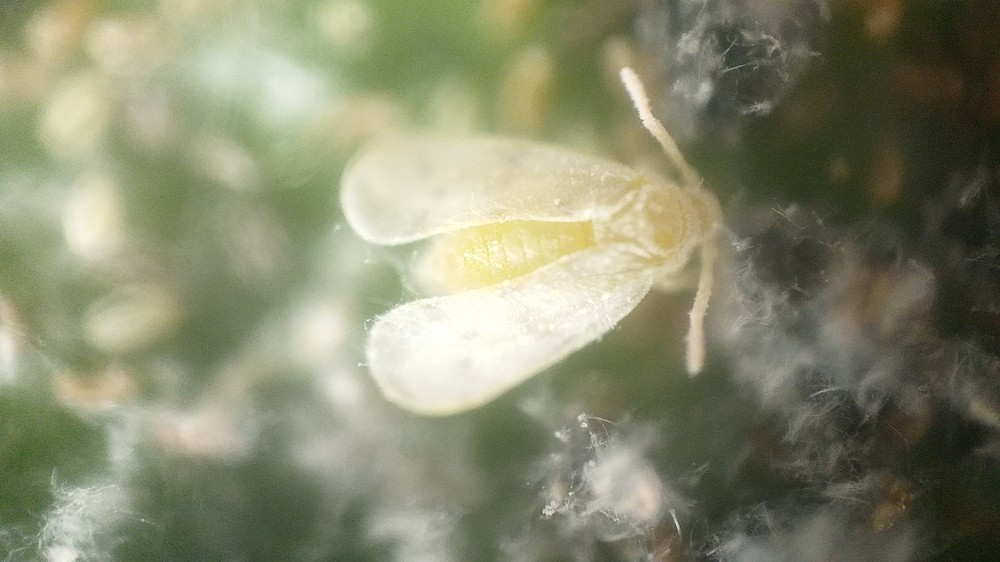Mosca Blanca: (318, 59, 764, 450)
